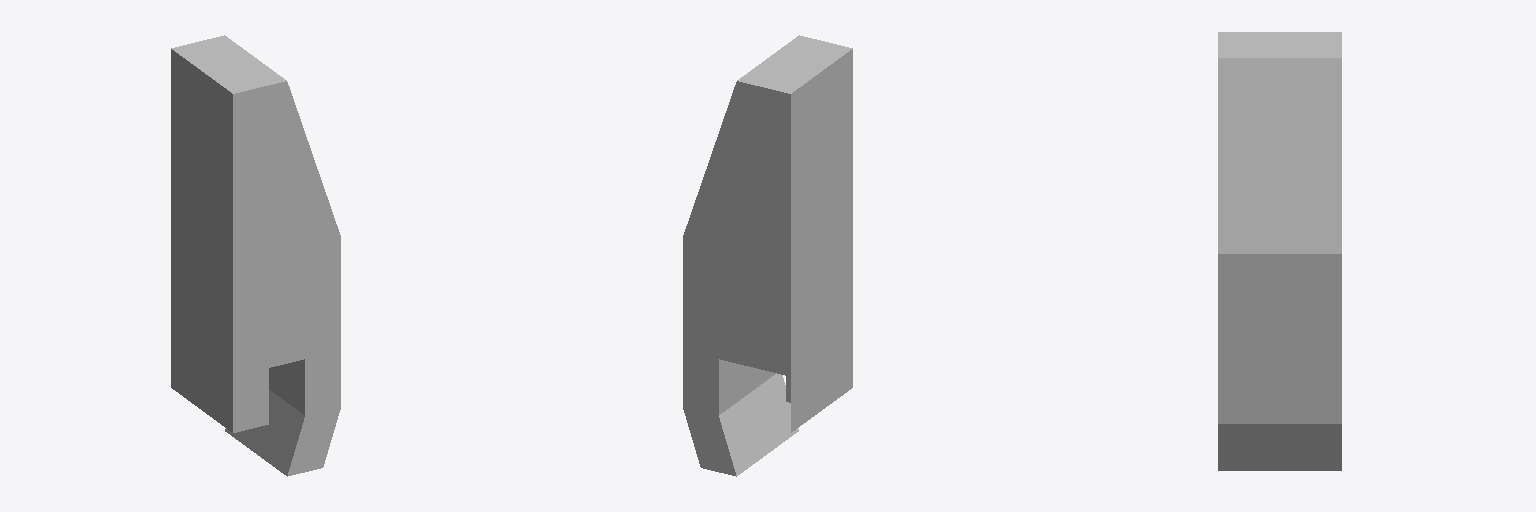
Rendered from character_arm.obj.
3 renders of one model, left to right at view 1: azimuth 30°, elevation 25°; view 2: azimuth 150°, elevation 25°; view 3: azimuth 270°, elevation 25°, orthographic.
Parts seen in each view (by area): view 1: advancedCharacter; view 2: advancedCharacter; view 3: advancedCharacter.
Part boxes in pixels (bbox=[...]): advancedCharacter: bbox=[171, 35, 340, 476]; advancedCharacter: bbox=[683, 35, 852, 476]; advancedCharacter: bbox=[1218, 32, 1341, 470].
Bounding box in the file's own units: 2 × 7 × 2.